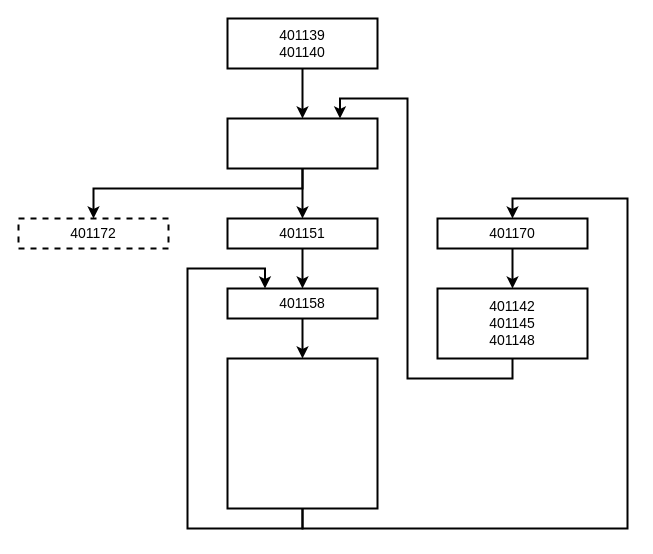
This 653x554 diagram has some shape labels left out. The box of each missing label's shape, as (x1, y1, x2, y2) in pixels:
40114B 40114F: (226, 117, 378, 169)
40115D 401160 401163 401166 401169 40116C 40116E: (226, 357, 378, 509)
